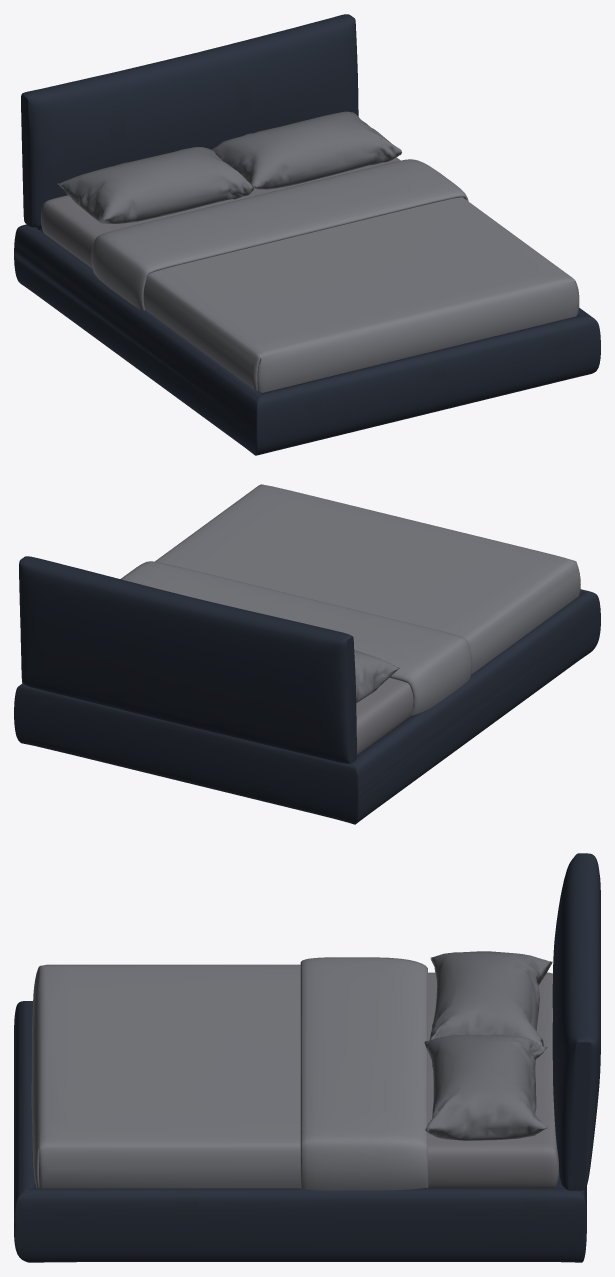
Rendered from OBJ-double_bed.glb.
3 renders of one model, top to bottom at view 1: azimuth 30°, elevation 25°; view 2: azimuth 150°, elevation 25°; view 3: azimuth 270°, elevation 25°, orthographic. The views are drawn at different scales.
Visible parts, largest first — view 1: Object_2, Object_3, Object_5, Object_4; view 2: Object_2, Object_3, Object_4, Object_5; view 3: Object_3, Object_2, Object_5, Object_4.
Boxes of the visible parts, x1,y1,x2,y2 form: Object_2: [14, 14, 600, 455]; Object_3: [91, 159, 579, 392]; Object_5: [57, 111, 401, 223]; Object_4: [41, 157, 400, 268]; Object_2: [14, 556, 600, 824]; Object_3: [120, 484, 580, 715]; Object_4: [356, 677, 413, 755]; Object_5: [354, 650, 399, 702]; Object_3: [31, 957, 428, 1190]; Object_2: [14, 853, 600, 1262]; Object_5: [424, 951, 552, 1140]; Object_4: [428, 972, 559, 1187].
Size of the model in its own units: 1.8 by 0.9371 by 2.25.
4 materials, 1 textured.
